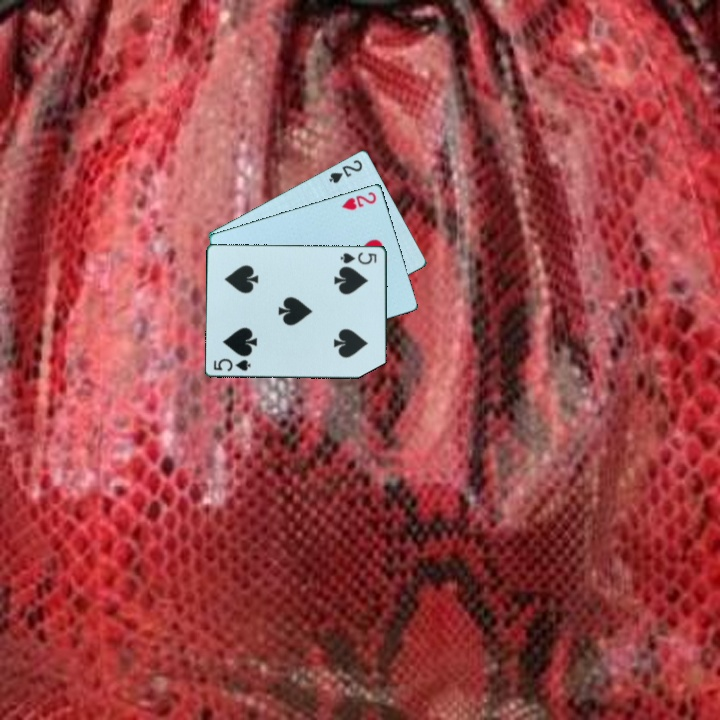2h: (338, 188, 379, 213)
2s: (325, 156, 365, 187)
5s: (210, 355, 254, 374), (337, 248, 379, 267)
